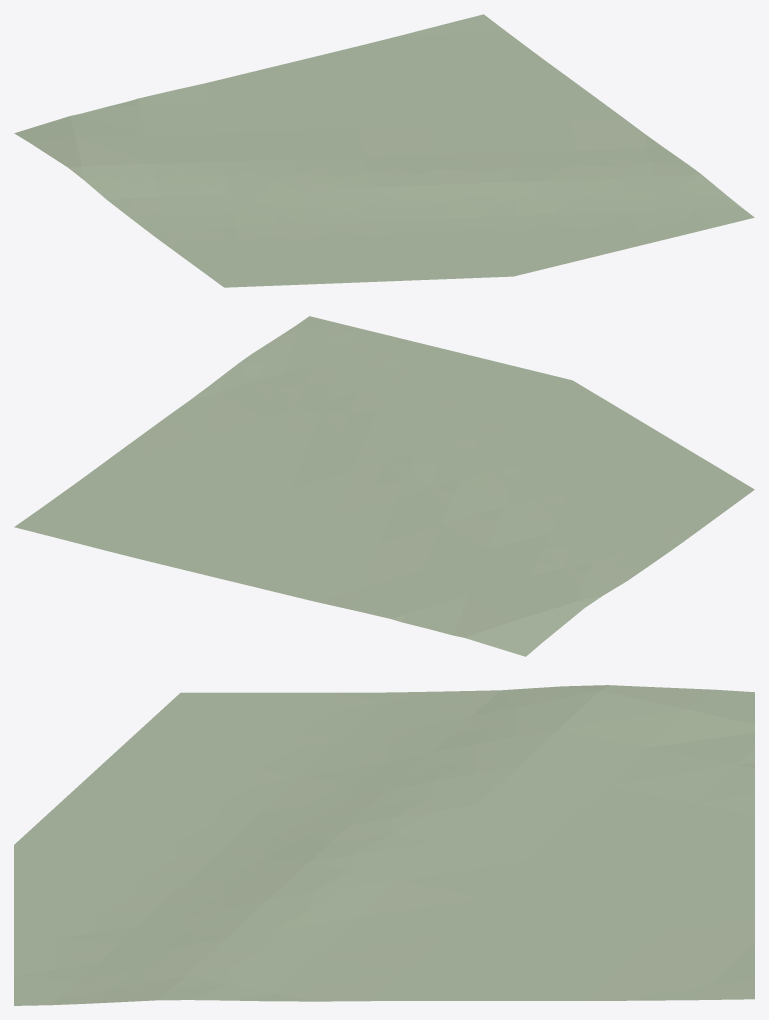
File: SM_MPRR_Terrain_0_-4.fbx
3 views of the same model, one above another, from view 1: azimuth 30°, elevation 25°; view 2: azimuth 150°, elevation 25°; view 3: azimuth 270°, elevation 25° (orthographic). The views are drawn at different scales.
Visible parts, largest first — view 1: SM_MPRR_Terrain_0_-4; view 2: SM_MPRR_Terrain_0_-4; view 3: SM_MPRR_Terrain_0_-4.
Part boxes in pixels (left/top/right/bottom): SM_MPRR_Terrain_0_-4: left=14, top=14, right=754, bottom=287; SM_MPRR_Terrain_0_-4: left=14, top=316, right=754, bottom=656; SM_MPRR_Terrain_0_-4: left=14, top=685, right=754, bottom=1005.
Size of the model in its own units: 15000 by 15000 by 203.
